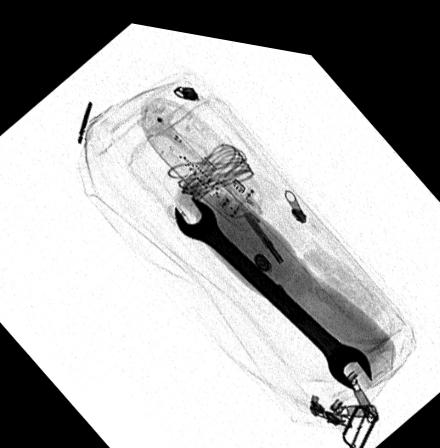Wrench: (173, 188, 372, 379)
